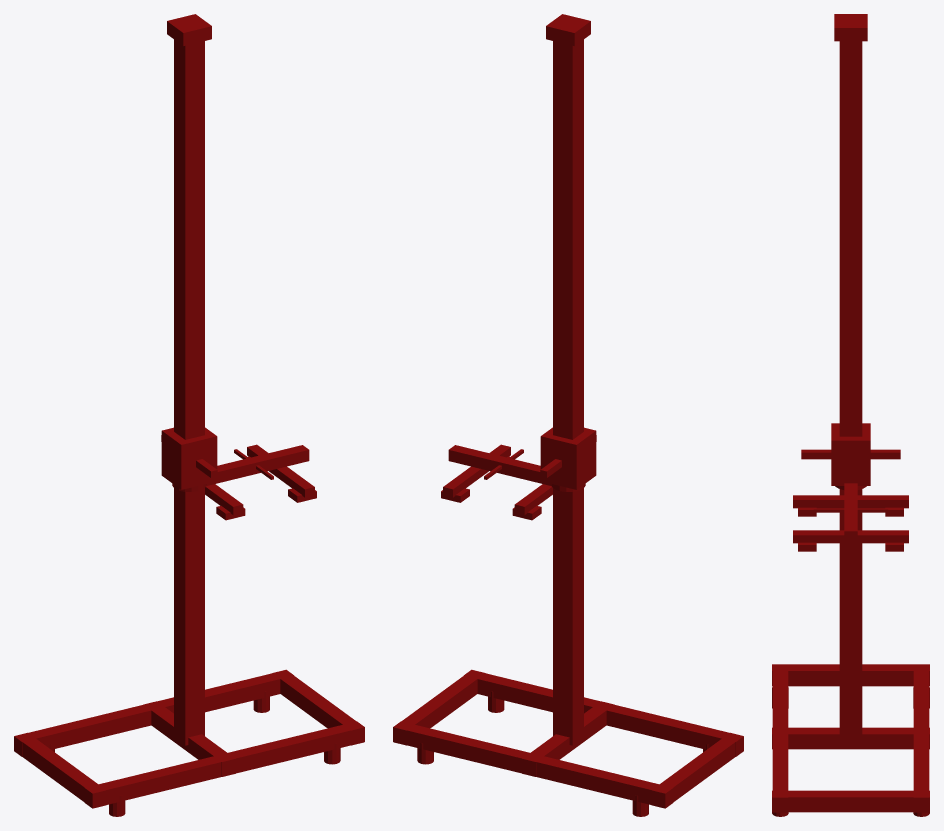
Rendered from boat_lift_complete.dae.
The picture shows the model from 3 angles, left to right: view 1: azimuth 30°, elevation 25°; view 2: azimuth 150°, elevation 25°; view 3: azimuth 270°, elevation 25°; orthographic projection.
Visible parts, largest first — view 1: VERTICAL_MAST, BASE_LONG_A, BASE_LONG_B, CARRIAGE_BODY, BASE_CROSS_FRONT, BASE_CROSS_REAR, HEAD_ARM, BASE_CROSS_MID, MAST_CAP, CRADLE_2.55; view 2: VERTICAL_MAST, BASE_LONG_B, BASE_LONG_A, CARRIAGE_BODY, BASE_CROSS_FRONT, BASE_CROSS_REAR, HEAD_ARM, BASE_CROSS_MID, MAST_CAP, CRADLE_2.55; view 3: VERTICAL_MAST, BASE_CROSS_REAR, BASE_CROSS_MID, BASE_LONG_B, BASE_LONG_A, BASE_CROSS_FRONT, CARRIAGE_BODY, CRADLE_2.55, CRADLE_0.55, MAST_CAP, HEAD_ARM, CARRIAGE_RAIL_L (+2 smaller).
Boxes of the visible parts, x1,y1,x2,y2 form: VERTICAL_MAST: (174,39,204,745); BASE_LONG_A: (84,721,364,808); BASE_LONG_B: (14,670,293,756); CARRIAGE_BODY: (161,427,217,489); BASE_CROSS_FRONT: (15,732,106,808); BASE_CROSS_REAR: (272,670,364,745); HEAD_ARM: (206,445,309,485); BASE_CROSS_MID: (145,701,235,776); MAST_CAP: (167,14,211,45); CRADLE_2.55: (247,444,314,497); VERTICAL_MAST: (553,39,583,745); BASE_LONG_B: (393,721,673,808); BASE_LONG_A: (464,670,743,756); CARRIAGE_BODY: (540,427,596,489); BASE_CROSS_FRONT: (651,732,742,808); BASE_CROSS_REAR: (393,670,485,745); HEAD_ARM: (448,445,551,485); BASE_CROSS_MID: (522,701,612,776); MAST_CAP: (546,14,590,45); CRADLE_2.55: (443,444,510,497); VERTICAL_MAST: (839,41,862,743); BASE_CROSS_REAR: (772,790,929,812); BASE_CROSS_MID: (772,727,929,749); BASE_LONG_B: (913,664,929,812); BASE_LONG_A: (772,664,788,812); BASE_CROSS_FRONT: (772,664,929,686); CARRIAGE_BODY: (831,423,870,485); CRADLE_2.55: (793,530,908,543); CRADLE_0.55: (793,495,908,508); MAST_CAP: (834,14,867,41); HEAD_ARM: (844,483,857,542); CARRIAGE_RAIL_L: (801,449,831,459).
Bounding box in the file's own units: 7.6 × 3.8 × 19.67.
